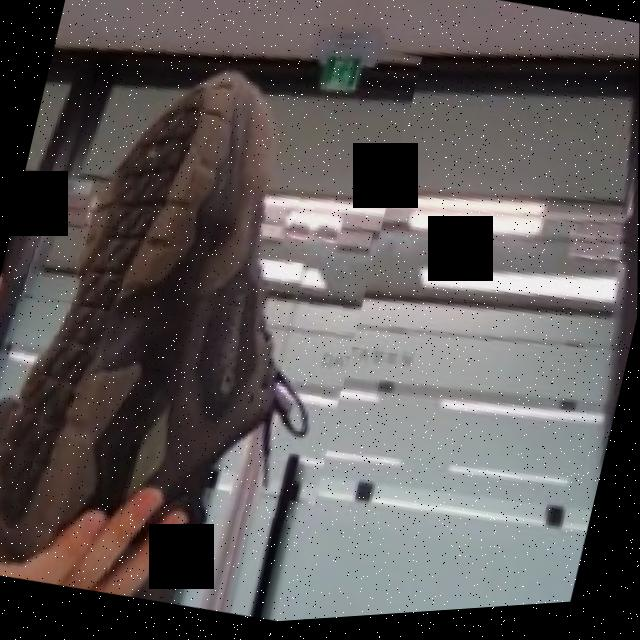shoe: (0, 0, 425, 640)
